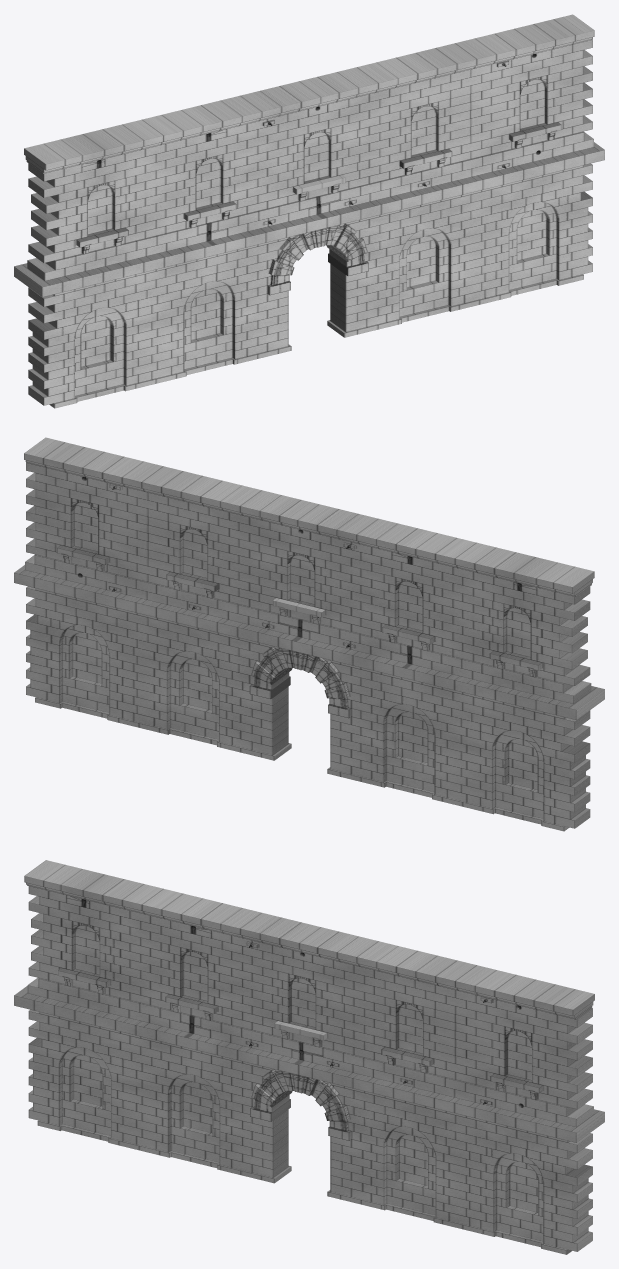
Rendered from Mur_Pour_Coat3.fbx.
The picture shows the model from 3 angles, top to bottom: view 1: azimuth 30°, elevation 25°; view 2: azimuth 150°, elevation 25°; view 3: azimuth 330°, elevation 25°; orthographic projection.
Visible parts, largest first — view 1: Cube.7283; view 2: Cube.7283; view 3: Cube.7283.
Part boxes in pixels (<box>): Cube.7283: <box>14,14,604,408</box>; Cube.7283: <box>14,437,604,831</box>; Cube.7283: <box>14,860,604,1254</box>.
Size of the model in its own units: 14.66 by 1.29 by 6.19.
1 material, 1 textured.
